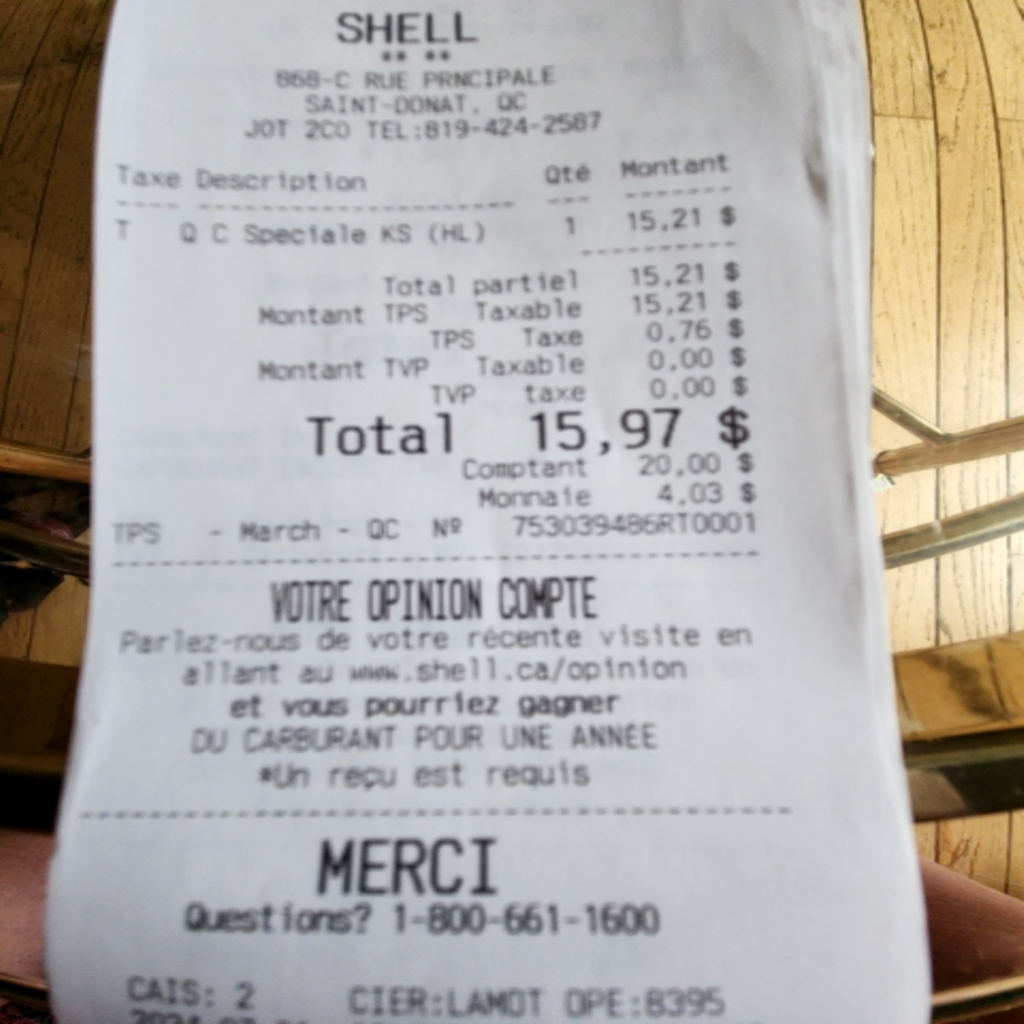recipt: (42, 2, 936, 1016)
